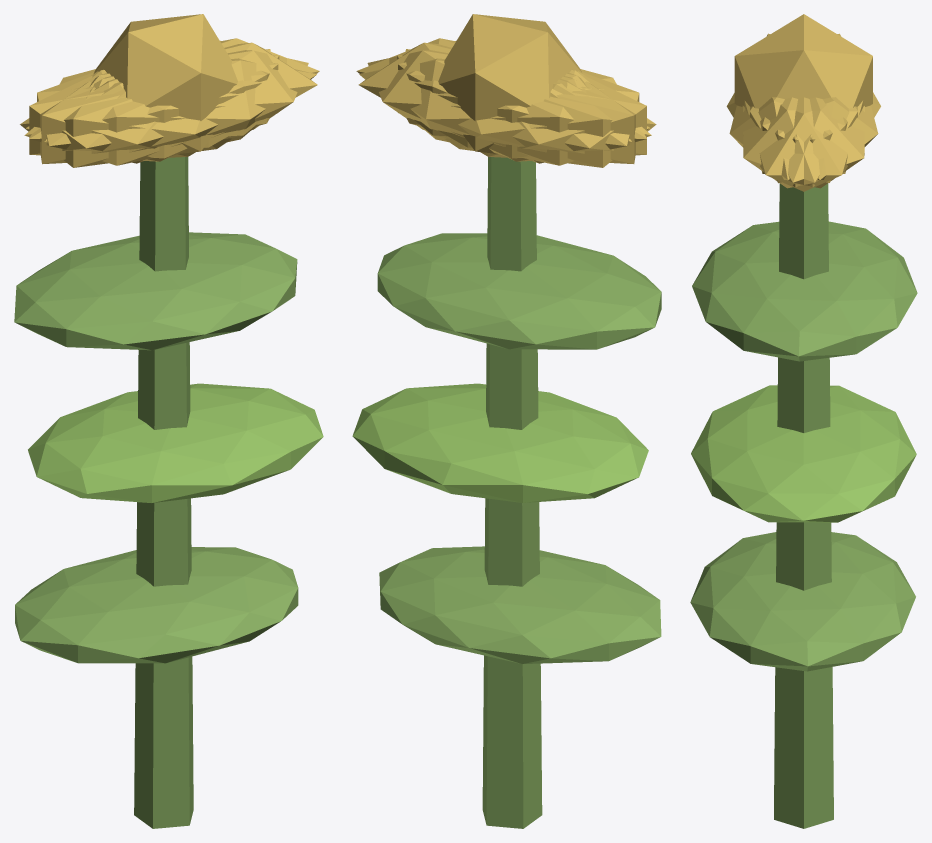
Rendered from chromolaena-odorata.glb.
3 views of the same model, side by side, from view 1: azimuth 30°, elevation 25°; view 2: azimuth 150°, elevation 25°; view 3: azimuth 270°, elevation 25° (orthographic).
Parts seen in each view (by area): view 1: leaf1, leaf2, leaf0, stem, center, petal1, petal6, petal2, petal5, petal7, petal0, petal4 (+2 smaller); view 2: leaf1, leaf2, leaf0, stem, center, petal8, petal3, petal7, petal4, petal2, petal0, petal5 (+2 smaller); view 3: leaf1, leaf2, leaf0, stem, center, petal0, petal4, petal5, petal1, petal8.
Boxes of the visible parts, x1=… form: leaf1: x1=28, y1=383, x2=323, y2=502; leaf2: x1=14, y1=232, x2=297, y2=350; leaf0: x1=15, y1=547, x2=298, y2=663; stem: x1=134, y1=157, x2=193, y2=828; center: x1=93, y1=14, x2=237, y2=153; petal1: x1=24, y1=58, x2=316, y2=165; petal6: x1=20, y1=71, x2=231, y2=167; petal2: x1=40, y1=49, x2=270, y2=164; petal5: x1=44, y1=50, x2=308, y2=158; petal7: x1=29, y1=55, x2=279, y2=161; petal0: x1=93, y1=42, x2=317, y2=147; petal4: x1=26, y1=38, x2=319, y2=139; leaf1: x1=352, y1=383, x2=648, y2=502; leaf2: x1=377, y1=233, x2=661, y2=349; leaf0: x1=379, y1=546, x2=661, y2=663; stem: x1=482, y1=157, x2=542, y2=828; center: x1=438, y1=14, x2=582, y2=153; petal8: x1=359, y1=58, x2=651, y2=165; petal3: x1=444, y1=71, x2=656, y2=167; petal7: x1=405, y1=49, x2=635, y2=163; petal4: x1=367, y1=50, x2=631, y2=158; petal2: x1=397, y1=55, x2=646, y2=161; petal0: x1=358, y1=42, x2=582, y2=147; petal5: x1=356, y1=38, x2=650, y2=139; leaf1: x1=691, y1=385, x2=916, y2=522; leaf2: x1=692, y1=221, x2=917, y2=361; leaf0: x1=690, y1=532, x2=915, y2=671; stem: x1=774, y1=183, x2=833, y2=828; center: x1=734, y1=14, x2=872, y2=108; petal0: x1=744, y1=97, x2=863, y2=191; petal4: x1=750, y1=97, x2=864, y2=188; petal5: x1=742, y1=97, x2=857, y2=188; petal1: x1=729, y1=97, x2=847, y2=180; petal8: x1=760, y1=97, x2=878, y2=180.
Bounding box in the file's own units: 0.1497 × 0.3825 × 0.1005.
